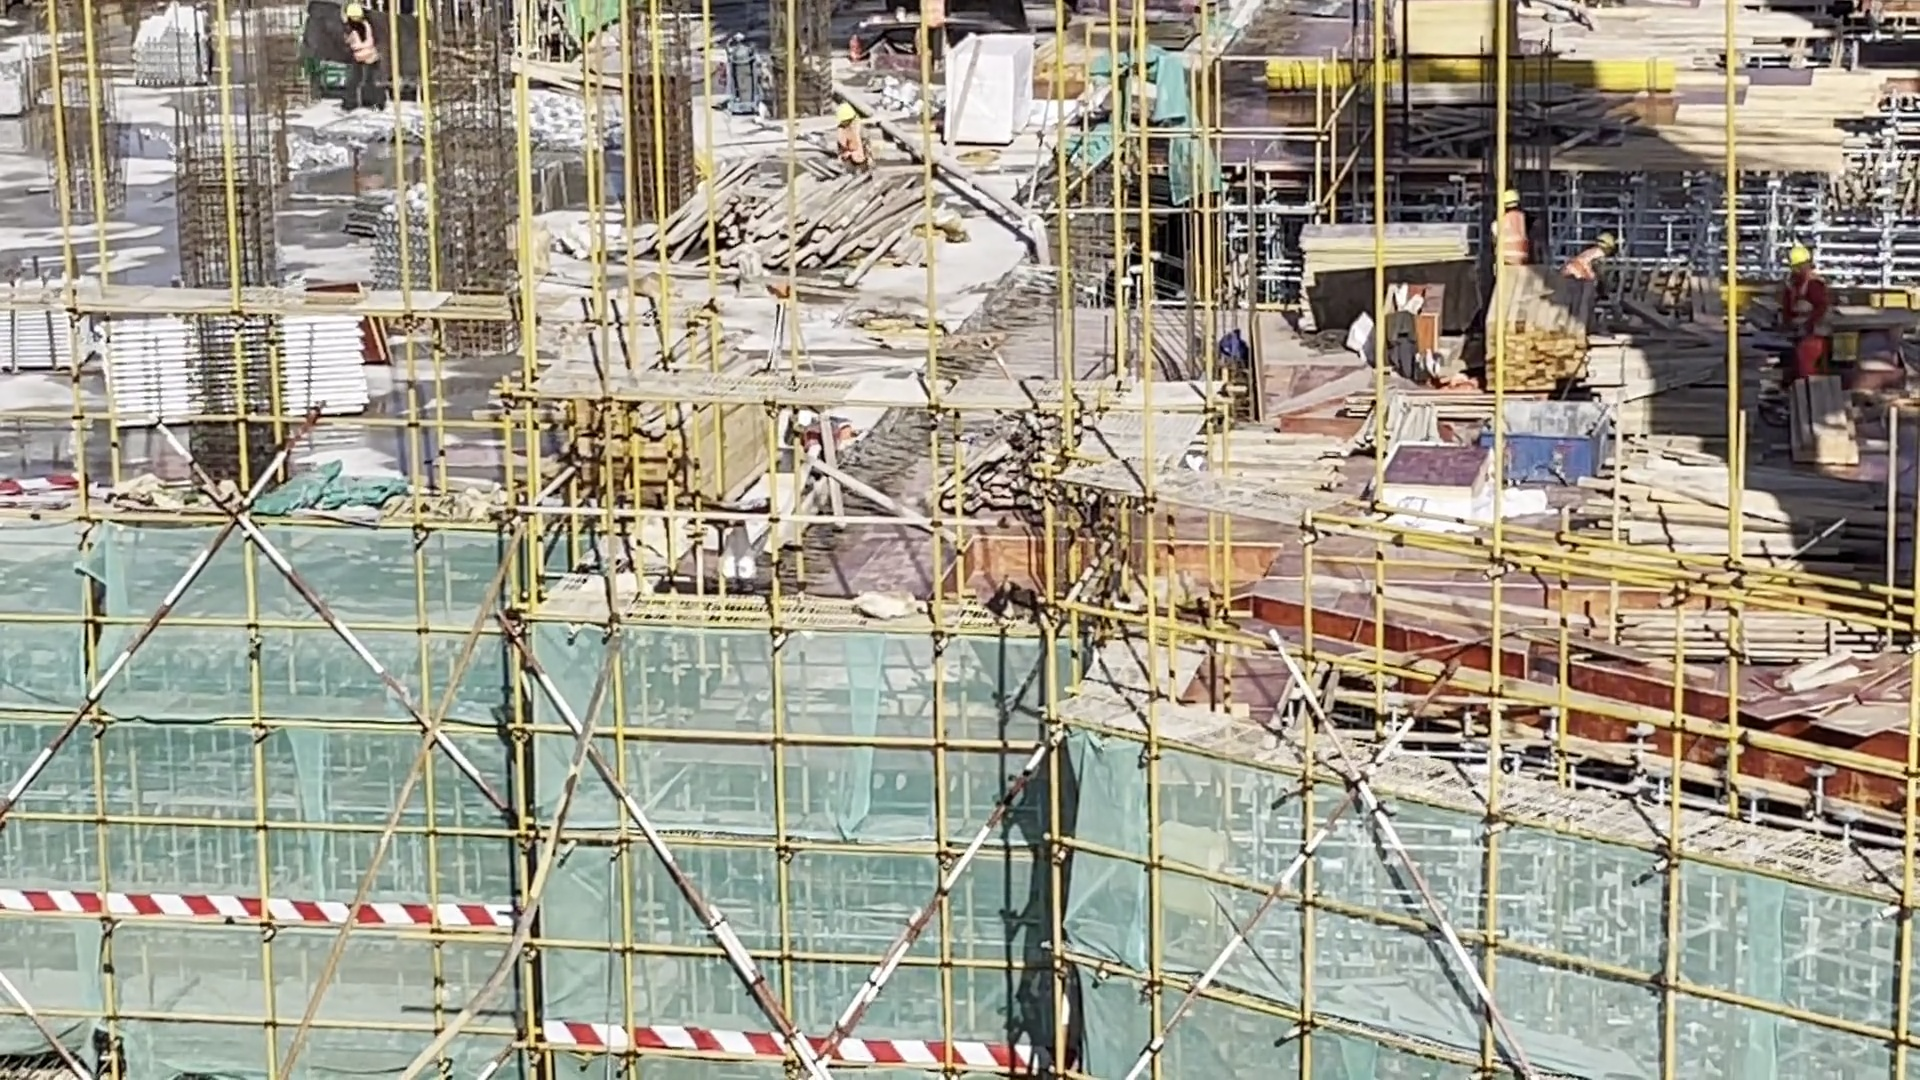board: (1729, 635, 1920, 753)
helmet: (782, 408, 816, 448), (823, 98, 856, 131), (1496, 196, 1523, 223), (1783, 245, 1816, 267), (1591, 230, 1612, 260)
hopper: (1478, 392, 1621, 497)
person: (1771, 244, 1834, 378), (331, 1, 385, 112), (783, 404, 867, 463), (1480, 188, 1530, 272), (1561, 228, 1620, 289)
scaffold: (85, 297, 367, 415), (4, 282, 93, 386)
vest: (1782, 279, 1822, 340), (1492, 211, 1525, 259), (344, 22, 377, 64), (1566, 244, 1597, 278)
wood: (538, 313, 749, 527), (699, 153, 933, 300), (1585, 590, 1841, 661), (1482, 282, 1601, 393)
